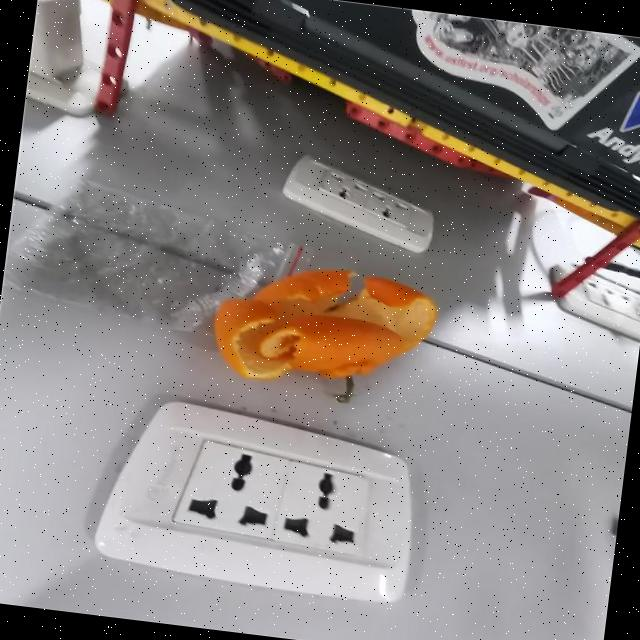orange-peel: (206, 252, 441, 401)
